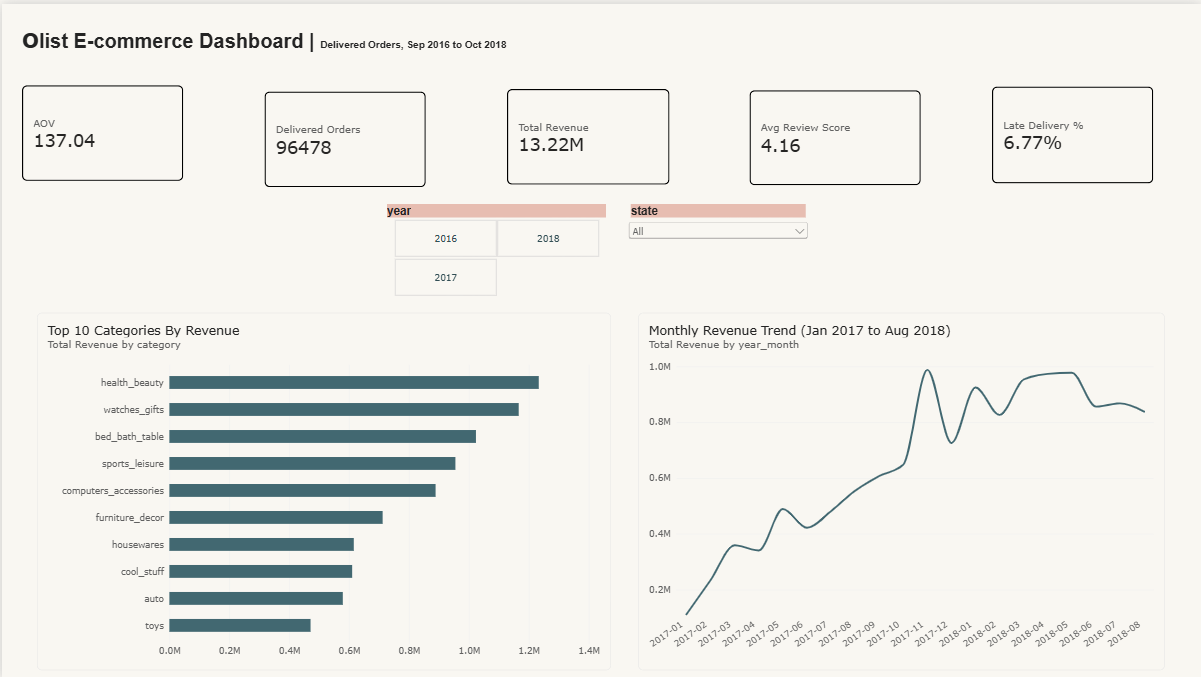

What the dashboard file says about the page in this screenshot:
{"tool":"powerbi","page":{"name":"Exeutive_Overview","canvas":[1920,1080],"ordinal":0},"visuals":[{"type":"cardVisual","fields":{"Data":["Olist_Measures (2).Total Revenue"]},"box":[807.4,136.5,260,153.3],"z":0},{"type":"cardVisual","fields":{"Data":["Olist_Measures (2).Delivered Orders"]},"box":[419.7,140,258.8,153.8],"z":1000},{"type":"cardVisual","fields":{"Data":["Olist_Measures (2).AOV"]},"box":[32,130,258.8,153.8],"z":2000},{"type":"cardVisual","fields":{"Data":["Olist_Measures (2).Avg Review Score"]},"box":[1196,138,274,152],"z":3000},{"type":"cardVisual","fields":{"Data":["Olist_Measures (2).Late Delivery %"]},"box":[1584,132.6,258.8,155],"z":4000},{"type":"lineChart","title":"Monthly Revenue Trend (Jan 2017 to Aug 2018)","fields":{"Category":["analytics dim_date.year_month"],"Y":["Olist_Measures (2).Total Revenue"]},"box":[1018,494,842,572],"z":5000},{"type":"clusteredBarChart","title":"Top 10 Categories By Revenue","fields":{"Category":["analytics dim_products.category"],"Y":["Olist_Measures (2).Total Revenue"]},"box":[56,494,918,572],"z":6000},{"type":"slicer","fields":{"Values":["analytics dim_date.year"]},"box":[608,320,366,148],"z":7000},{"type":"slicer","fields":{"Values":["analytics dim_customers.state"]},"box":[998,320,296,118],"z":8000},{"type":"textbox","box":[32,38,942,60],"z":9000}]}

Visuals, with their boxes in screenshot pixels (x1, y1, x2, y2), scaled from the page's 1920x1080 canvas onto the 1201x677 screenshot:
cardVisual - Olist_Measures (2).Total Revenue: pyautogui.locateOnScreen(505, 86, 668, 182)
cardVisual - Olist_Measures (2).Delivered Orders: pyautogui.locateOnScreen(263, 88, 424, 184)
cardVisual - Olist_Measures (2).AOV: pyautogui.locateOnScreen(20, 81, 182, 178)
cardVisual - Olist_Measures (2).Avg Review Score: pyautogui.locateOnScreen(748, 87, 920, 182)
cardVisual - Olist_Measures (2).Late Delivery %: pyautogui.locateOnScreen(991, 83, 1153, 180)
"Monthly Revenue Trend (Jan 2017 to Aug 2018)" lineChart: pyautogui.locateOnScreen(637, 310, 1163, 668)
"Top 10 Categories By Revenue" clusteredBarChart: pyautogui.locateOnScreen(35, 310, 609, 668)
slicer - analytics dim_date.year: pyautogui.locateOnScreen(380, 201, 609, 293)
slicer - analytics dim_customers.state: pyautogui.locateOnScreen(624, 201, 809, 275)
textbox: pyautogui.locateOnScreen(20, 24, 609, 61)
